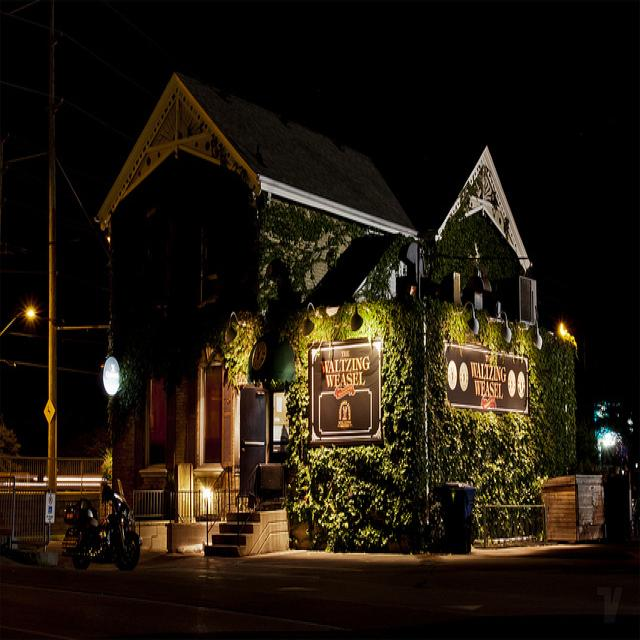Motorbike: (59, 477, 141, 571)
